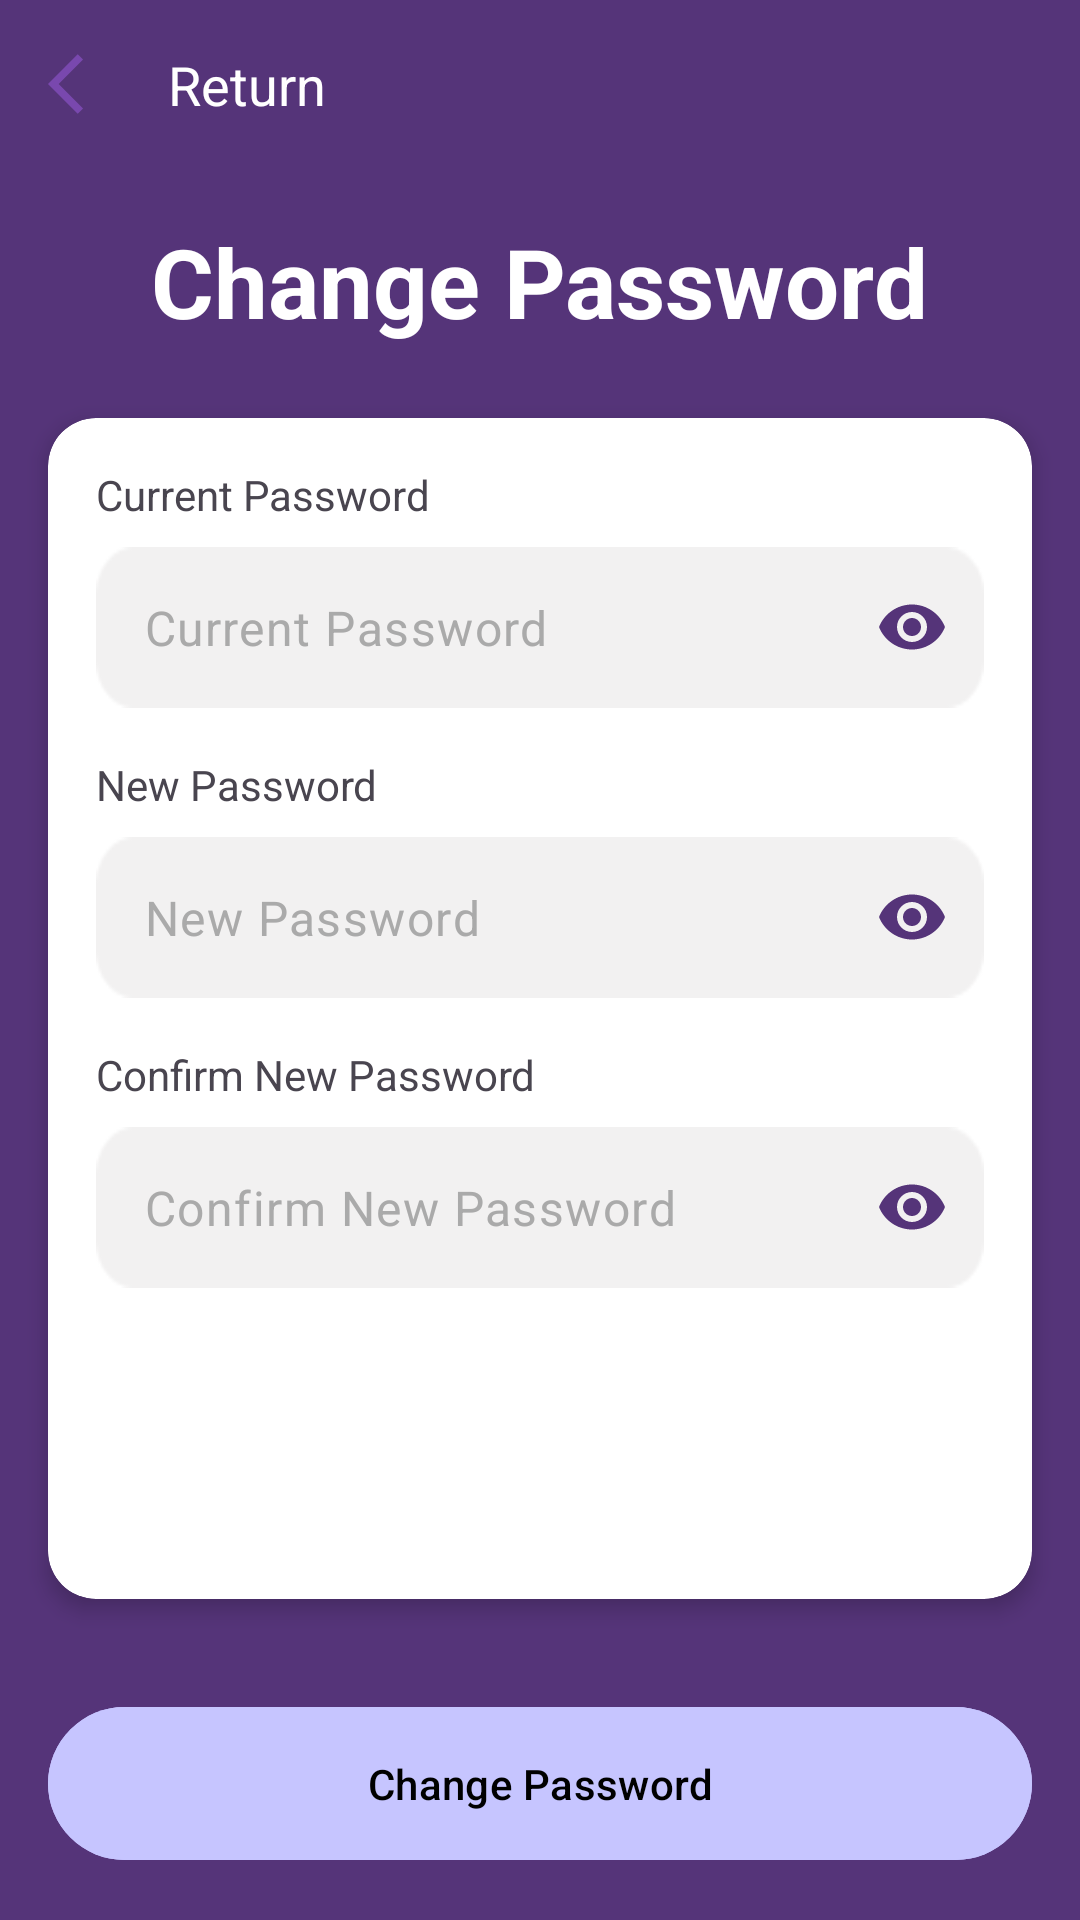

Screen size 1080×1920. Icon name, then its center in pixels as point (x, y):
Back: point (65, 84)
